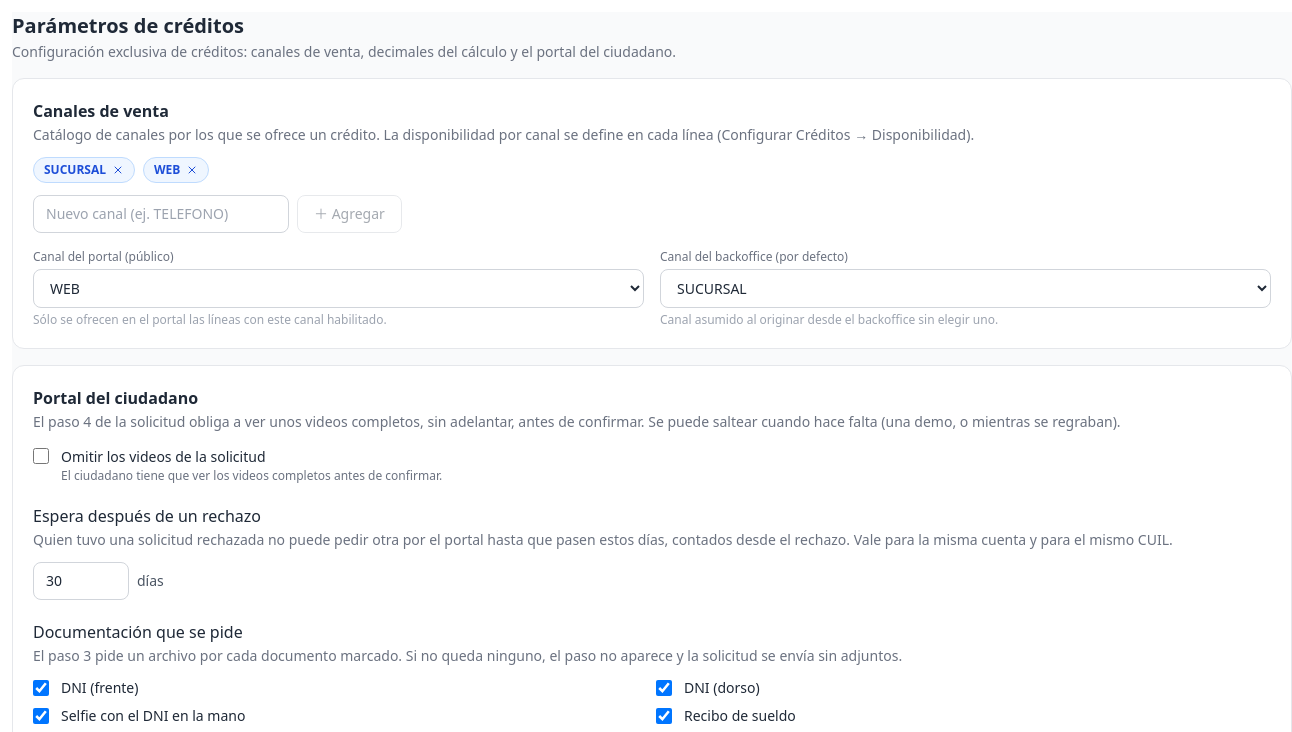
Test case: Parámetros de créditos › quitar el canal del portal lo reemplaza por otro
Expected: the button named "Quitar SUCURSAL" is shown, [112,164,124,176]
Expected: the dropdown labelled "Canal del portal" shows "WEB", [33,269,644,308]
Click the button named "Quitar WEB" at (192, 170), box [186,164,198,176]
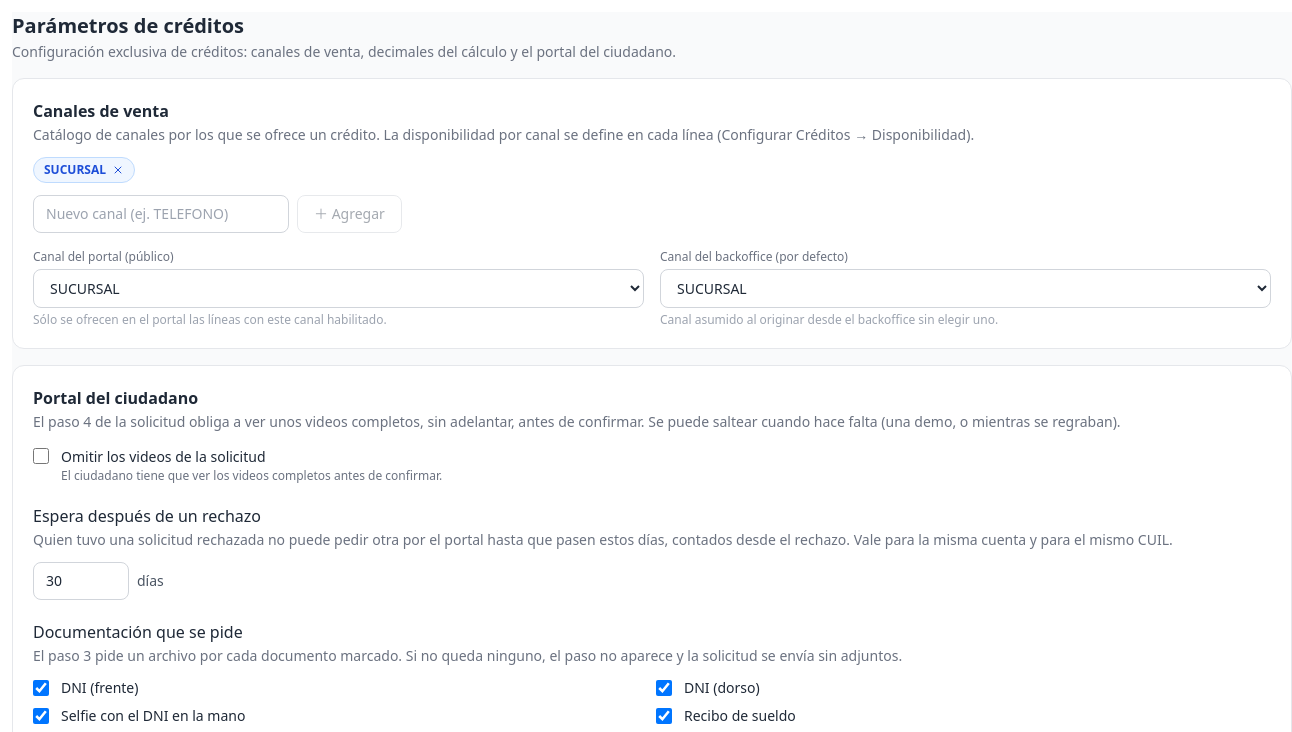
Expected: the dropdown labelled "Canal del portal" shows "SUCURSAL", [33,269,644,308]
